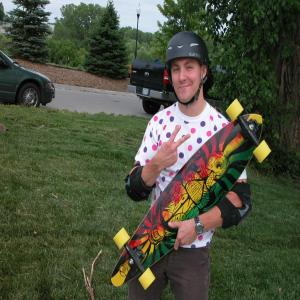Vehicle-registration-plate: (143, 88, 149, 96)
